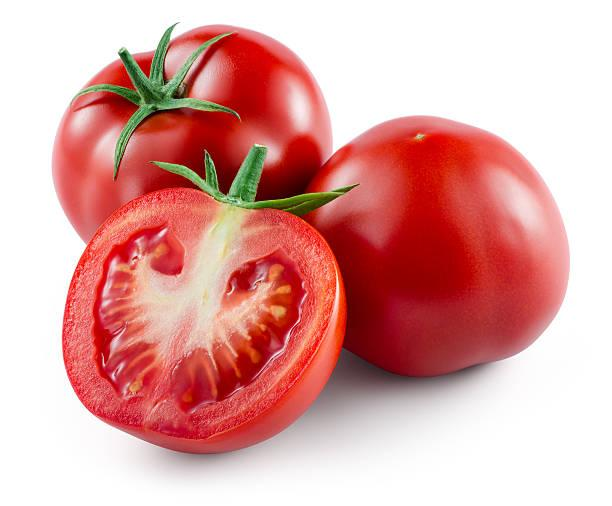Tomato: (47, 25, 568, 457)
